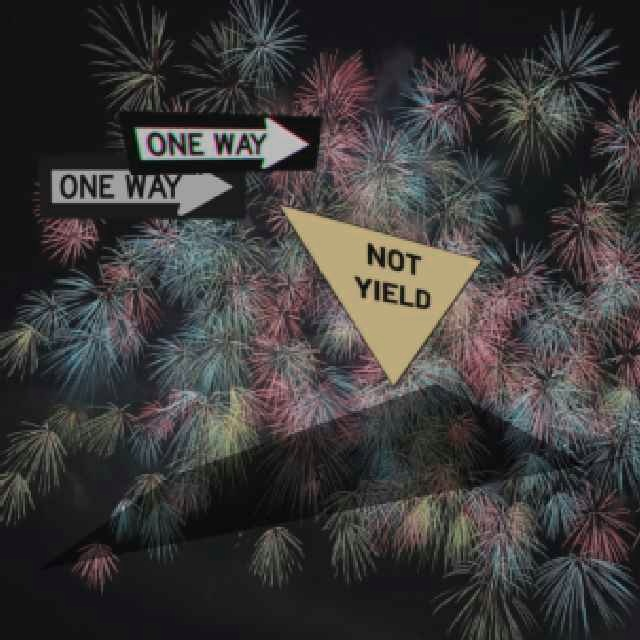NOT_YIELD: (274, 200, 482, 387)
ONE_WAY_ right: (37, 152, 245, 218), (115, 108, 323, 174)
